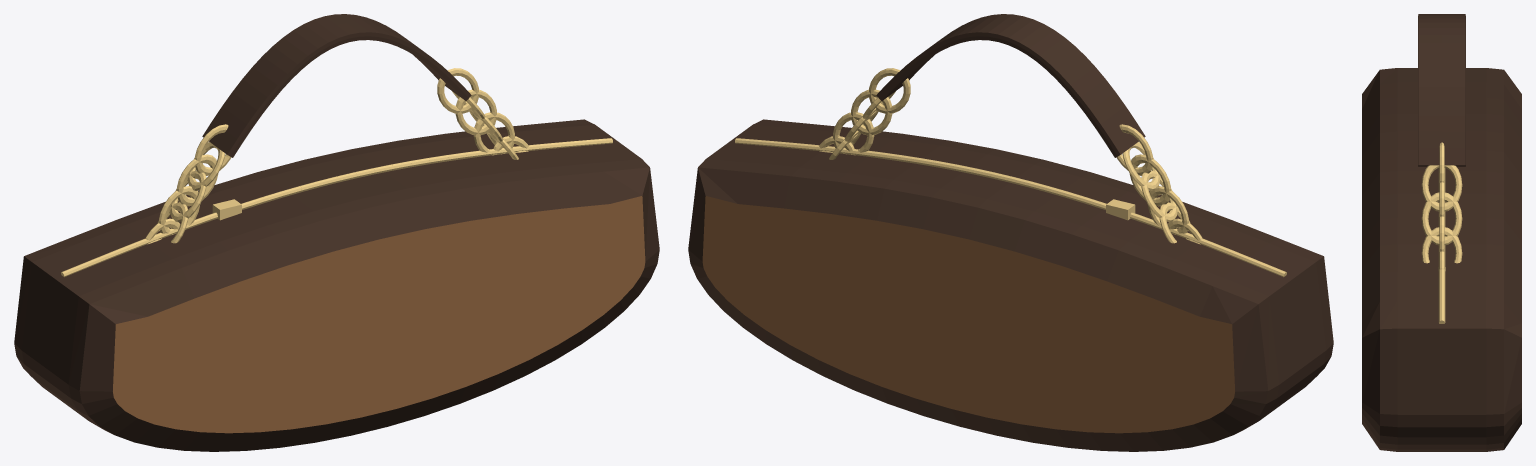
File: cognac-hour.glb
3 renders of one model, left to right at view 1: azimuth 30°, elevation 25°; view 2: azimuth 150°, elevation 25°; view 3: azimuth 270°, elevation 25°, orthographic. The views are drawn at different scales.
Visible parts, largest first — view 1: Trim, Panels, Hardware; view 2: Trim, Panels, Hardware; view 3: Trim, Hardware.
Boxes of the visible parts, box(x1,y1,x2,y2) form: Trim: box(14, 14, 659, 451); Panels: box(113, 196, 645, 433); Hardware: box(61, 68, 612, 277); Trim: box(688, 14, 1333, 451); Panels: box(702, 196, 1234, 433); Hardware: box(735, 68, 1286, 277); Trim: box(1362, 14, 1521, 451); Hardware: box(1421, 142, 1462, 323).
Bounding box in the file's own units: 0.32 × 0.201 × 0.08.
